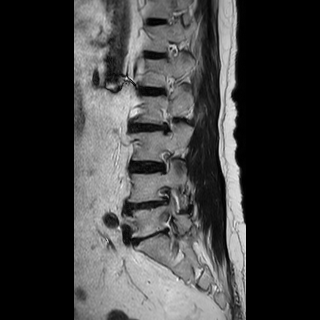LFS1: (153, 147, 174, 181)
LFS3: (148, 182, 175, 215)
